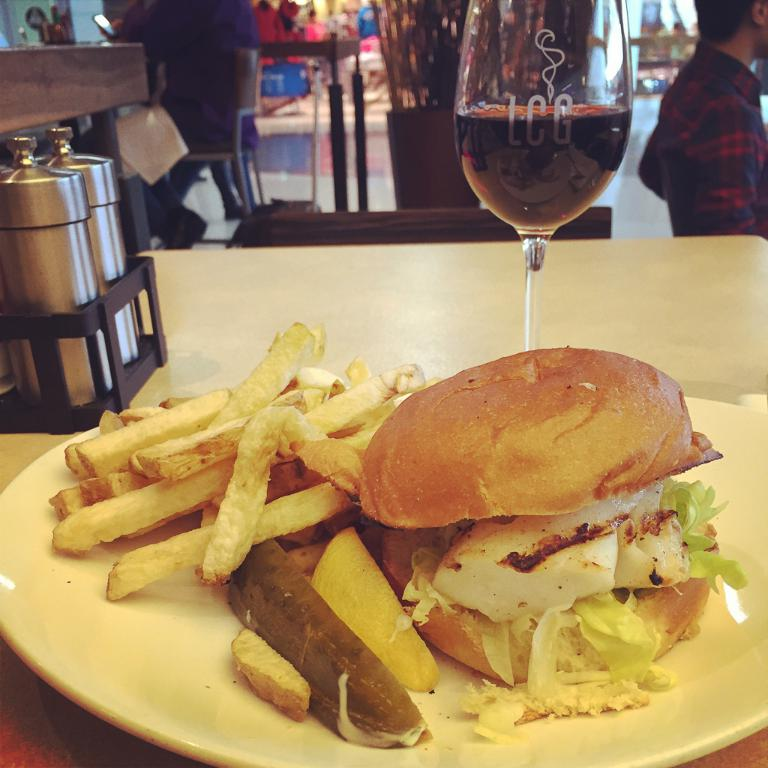French fries: (93, 477, 354, 605), (204, 399, 359, 584), (46, 453, 280, 556), (77, 379, 237, 468), (203, 319, 312, 427), (297, 354, 444, 432), (87, 461, 144, 503), (292, 365, 348, 389), (117, 402, 168, 427), (49, 480, 90, 508), (350, 355, 376, 389), (99, 405, 122, 437), (156, 395, 189, 411)
